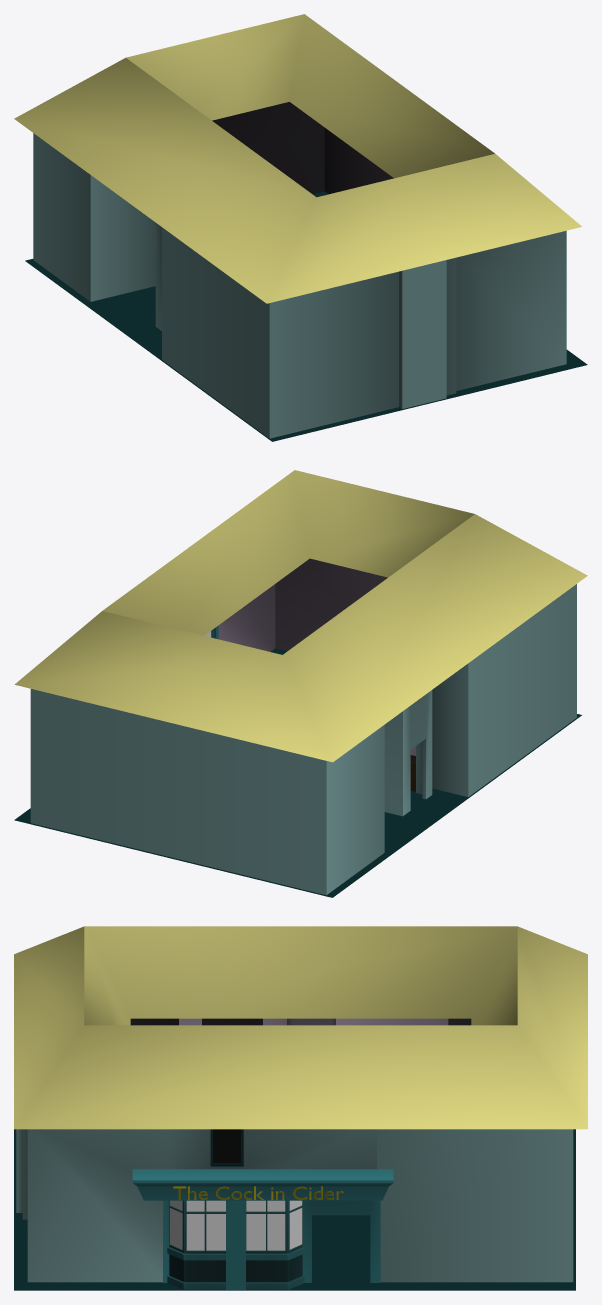
Rendered from vertexdirt.fbx.
The picture shows the model from 3 angles, top to bottom: view 1: azimuth 30°, elevation 25°; view 2: azimuth 150°, elevation 25°; view 3: azimuth 270°, elevation 25°; orthographic projection. The views are drawn at different scales.
Parts seen in each view (by area): view 1: Cylinder; view 2: Cylinder; view 3: Cylinder, Cylinder.001.
Boxes of the visible parts, x1=… form: Cylinder: x1=14, y1=14, x2=587, y2=441; Cylinder: x1=14, y1=470, x2=587, y2=897; Cylinder: x1=14, y1=926, x2=587, y2=1290; Cylinder.001: x1=170, y1=1200, x2=302, y2=1250.
Bounding box in the file's own units: 1244 × 747 × 1672.
